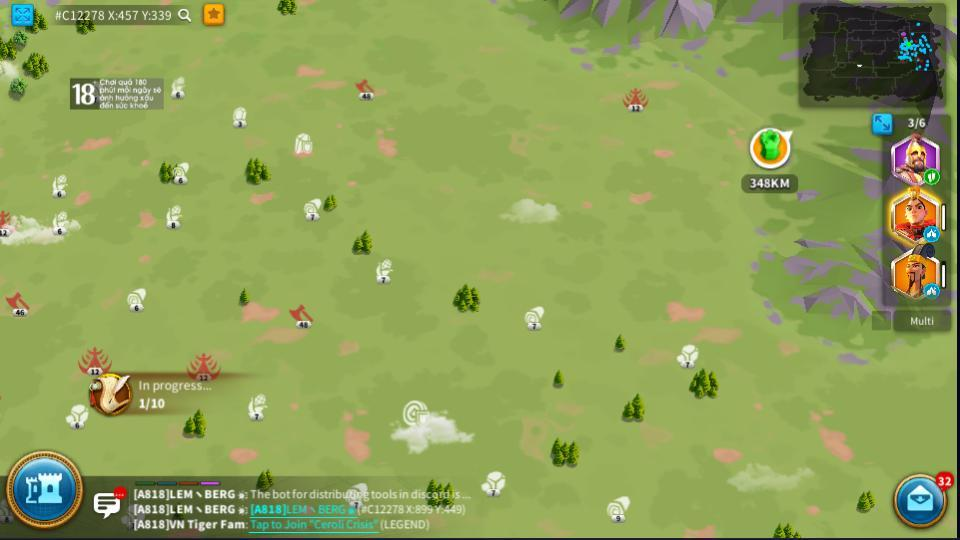gem-z-out: (230, 106, 249, 126)
march_idle: (923, 284, 939, 297), (923, 227, 938, 239)
march_marching: (923, 170, 937, 184)
